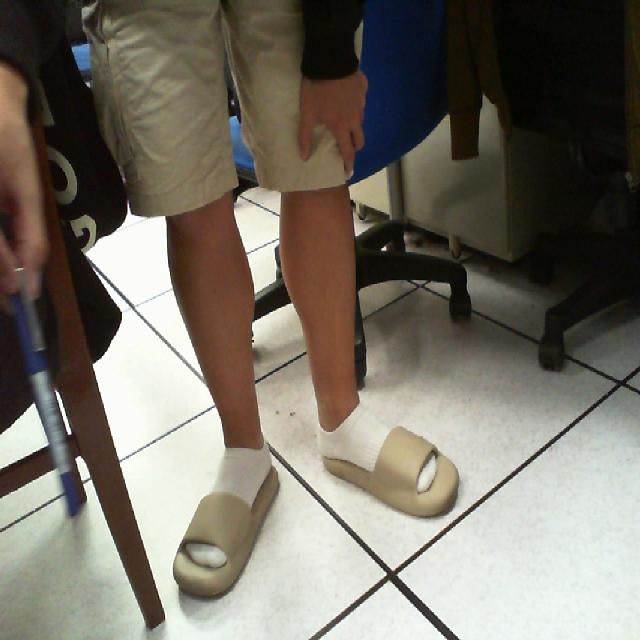Pen: (0, 258, 94, 547)
